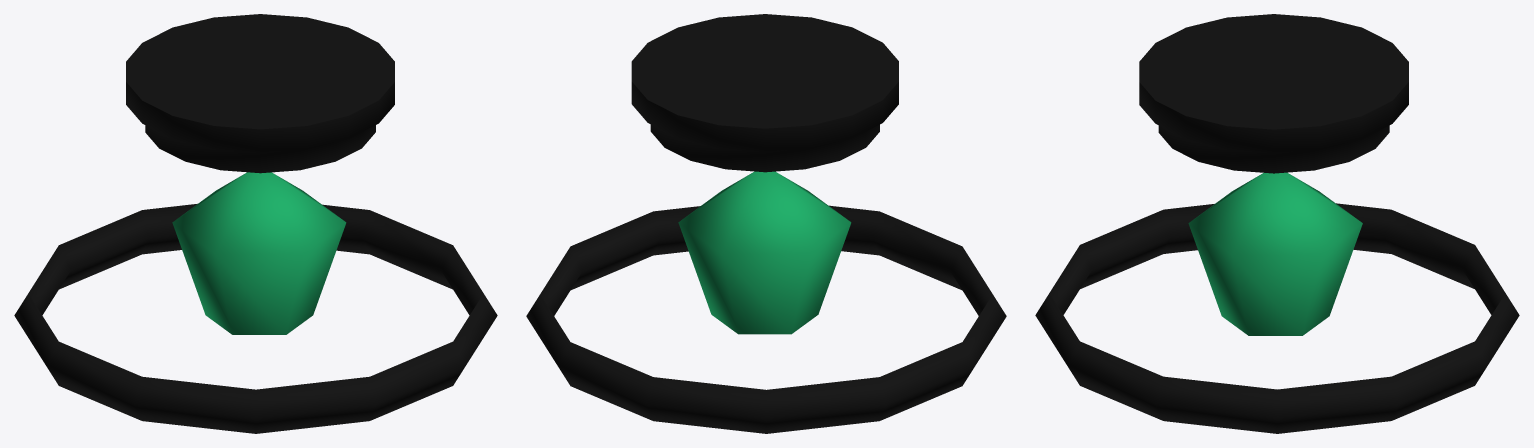
Rendered from Collectable.FBX.
3 views of the same model, side by side, from view 1: azimuth 30°, elevation 25°; view 2: azimuth 150°, elevation 25°; view 3: azimuth 270°, elevation 25° (orthographic).
Visible parts, largest first — view 1: Cylinder001, Sphere001; view 2: Cylinder001, Sphere001; view 3: Cylinder001, Sphere001.
Boxes of the visible parts, x1,y1,x2,y2 form: Cylinder001: [14, 14, 497, 433]; Sphere001: [172, 172, 346, 334]; Cylinder001: [526, 14, 1006, 433]; Sphere001: [678, 171, 851, 334]; Cylinder001: [1035, 14, 1519, 433]; Sphere001: [1188, 172, 1362, 335].
Bounding box in the file's own units: 1.06 × 0.6461 × 1.06.
